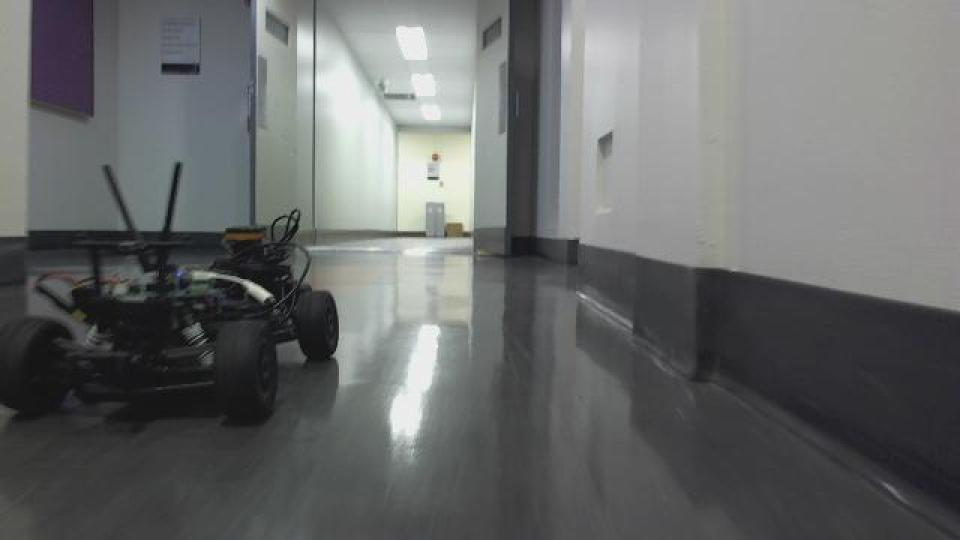car: (2, 159, 342, 425)
